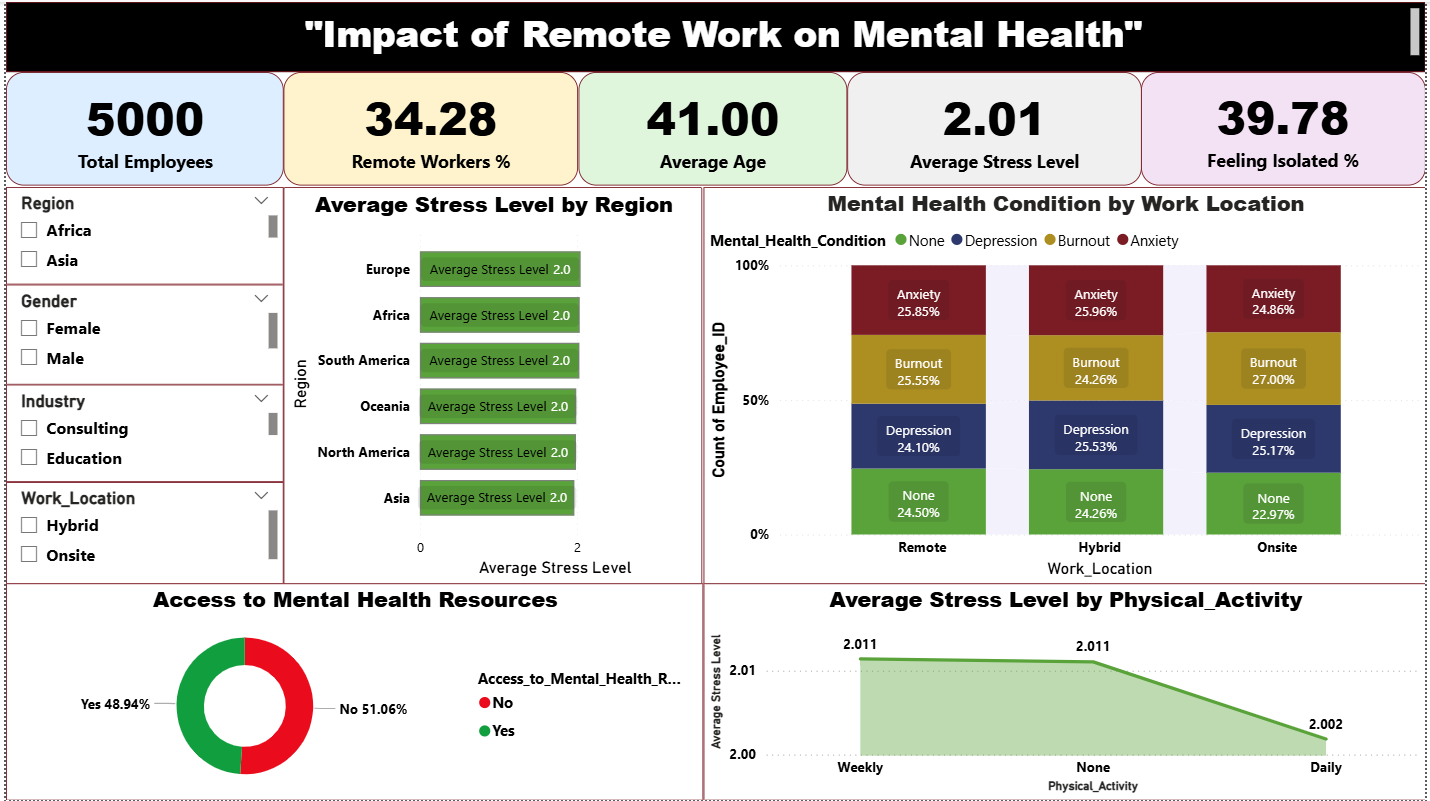

Layout of this report page (visuals, bound fields, positions):
{"tool":"powerbi","page":{"name":"Page 1","canvas":[1280,720],"ordinal":0},"visuals":[{"type":"card","fields":{"Values":["Impact_of_Remote_Work_on_Mental_Health.Total Employees"]},"box":[0,63.6,250.7,102.7],"z":0},{"type":"card","fields":{"Values":["Impact_of_Remote_Work_on_Mental_Health.Remote Workers %"]},"box":[250.7,63.6,265.4,102.7],"z":1000},{"type":"card","fields":{"Values":["Impact_of_Remote_Work_on_Mental_Health.Average Age"]},"box":[516,63.6,242.1,102.7],"z":2000},{"type":"card","fields":{"Values":["Impact_of_Remote_Work_on_Mental_Health.Average Stress Level"]},"box":[758.2,63.6,265.4,102.7],"z":3000},{"type":"card","fields":{"Values":["Impact_of_Remote_Work_on_Mental_Health.Feeling Isolated %"]},"box":[1023.5,63.6,256.8,102.7],"z":4000},{"type":"slicer","fields":{"Values":["Impact_of_Remote_Work_on_Mental_Health.Region"]},"box":[0,166.3,250.7,88],"z":5000},{"type":"slicer","fields":{"Values":["Impact_of_Remote_Work_on_Mental_Health.Gender"]},"box":[0,254.3,250.7,90.5],"z":6000},{"type":"slicer","fields":{"Values":["Impact_of_Remote_Work_on_Mental_Health.Industry"]},"box":[0,344.8,250.7,88],"z":7000},{"type":"slicer","fields":{"Values":["Impact_of_Remote_Work_on_Mental_Health.Work_Location"]},"box":[0,432.9,250.7,91.7],"z":8000},{"type":"barChart","fields":{"Category":["Impact_of_Remote_Work_on_Mental_Health.Region"],"Y":["Impact_of_Remote_Work_on_Mental_Health.Average Stress Level"]},"box":[250.7,166.3,377.9,358.3],"z":9000},{"type":"hundredPercentStackedColumnChart","fields":{"Category":["Impact_of_Remote_Work_on_Mental_Health.Work_Location"],"Series":["Impact_of_Remote_Work_on_Mental_Health.Mental_Health_Condition"],"Y":["CountNonNull(Impact_of_Remote_Work_on_Mental_Health.Employee_ID)"]},"box":[628.5,166.3,651.8,358.3],"z":10000},{"type":"donutChart","title":"“Mental Health Resource Access (Overall)”","fields":{"Category":["Impact_of_Remote_Work_on_Mental_Health.Access_to_Mental_Health_Resources"],"Y":["CountNonNull(Impact_of_Remote_Work_on_Mental_Health.Employee_ID)"]},"box":[0,524.6,628.5,195.7],"z":11000},{"type":"lineChart","fields":{"Category":["Impact_of_Remote_Work_on_Mental_Health.Physical_Activity"],"Y":["Impact_of_Remote_Work_on_Mental_Health.Average Stress Level"]},"box":[628.5,524.6,651.8,195.7],"z":12000},{"type":"textbox","box":[0,0,1280.3,63.6],"z":13000}]}

Visuals, with their boxes in screenshot pixels (x1, y1, x2, y2), scaled from the page's 1280x720 canvas onto the 1430x801 screenshot:
card - Impact_of_Remote_Work_on_Mental_Health.Total Employees: crop(0, 71, 280, 185)
card - Impact_of_Remote_Work_on_Mental_Health.Remote Workers %: crop(280, 71, 577, 185)
card - Impact_of_Remote_Work_on_Mental_Health.Average Age: crop(576, 71, 847, 185)
card - Impact_of_Remote_Work_on_Mental_Health.Average Stress Level: crop(847, 71, 1144, 185)
card - Impact_of_Remote_Work_on_Mental_Health.Feeling Isolated %: crop(1143, 71, 1429, 185)
slicer - Impact_of_Remote_Work_on_Mental_Health.Region: crop(0, 185, 280, 283)
slicer - Impact_of_Remote_Work_on_Mental_Health.Gender: crop(0, 283, 280, 384)
slicer - Impact_of_Remote_Work_on_Mental_Health.Industry: crop(0, 384, 280, 481)
slicer - Impact_of_Remote_Work_on_Mental_Health.Work_Location: crop(0, 482, 280, 584)
barChart - Impact_of_Remote_Work_on_Mental_Health.Region x Impact_of_Remote_Work_on_Mental_Health.Average Stress Level: crop(280, 185, 702, 584)
hundredPercentStackedColumnChart - Impact_of_Remote_Work_on_Mental_Health.Work_Location x Impact_of_Remote_Work_on_Mental_Health.Mental_Health_Condition: crop(702, 185, 1429, 584)
"“Mental Health Resource Access (Overall)”" donutChart: crop(0, 584, 702, 800)
lineChart - Impact_of_Remote_Work_on_Mental_Health.Physical_Activity x Impact_of_Remote_Work_on_Mental_Health.Average Stress Level: crop(702, 584, 1429, 800)
textbox: crop(0, 0, 1429, 71)
